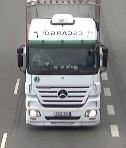truck: (18, 14, 108, 127)
